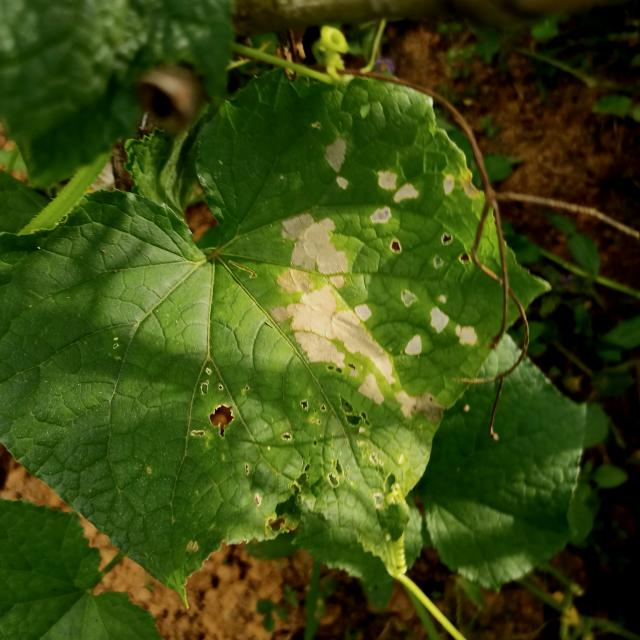disease_cucumber: (263, 127, 487, 424)
